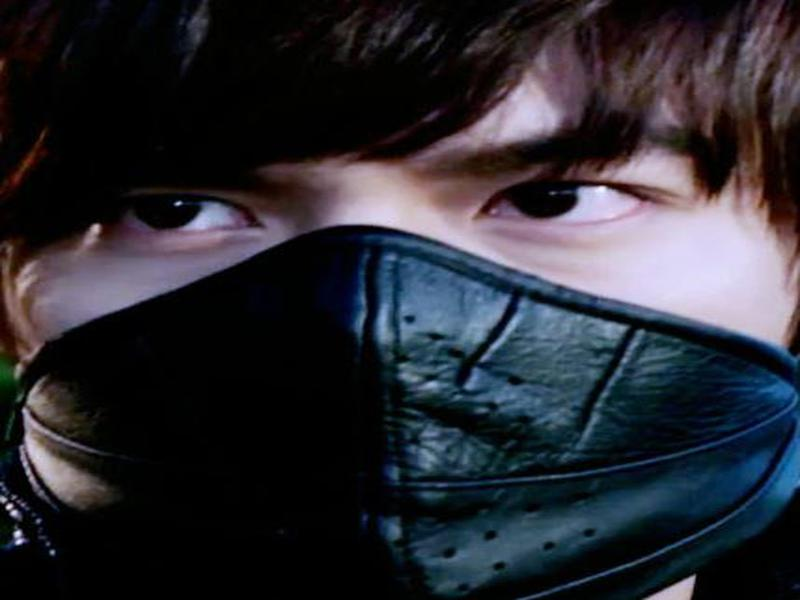with_mask: (1, 1, 793, 600)
